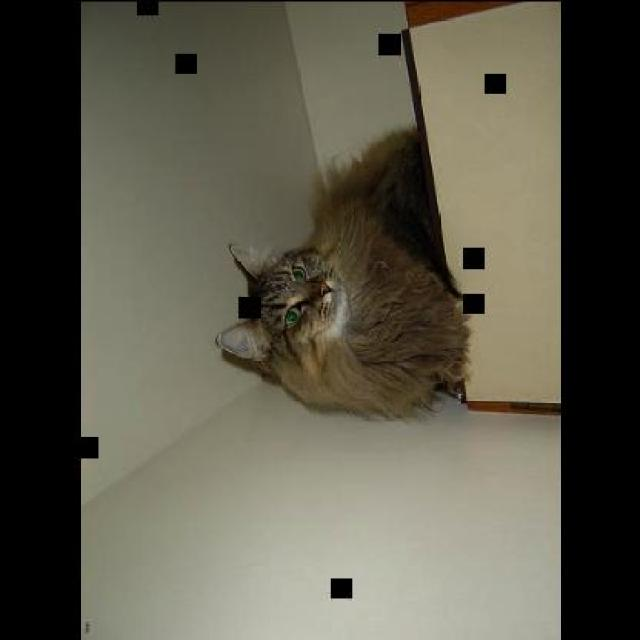unauthorized: (215, 125, 471, 420)
